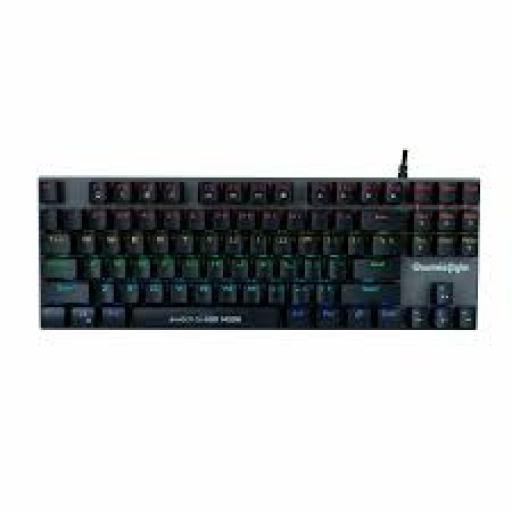keyboard: (39, 175, 478, 328)
